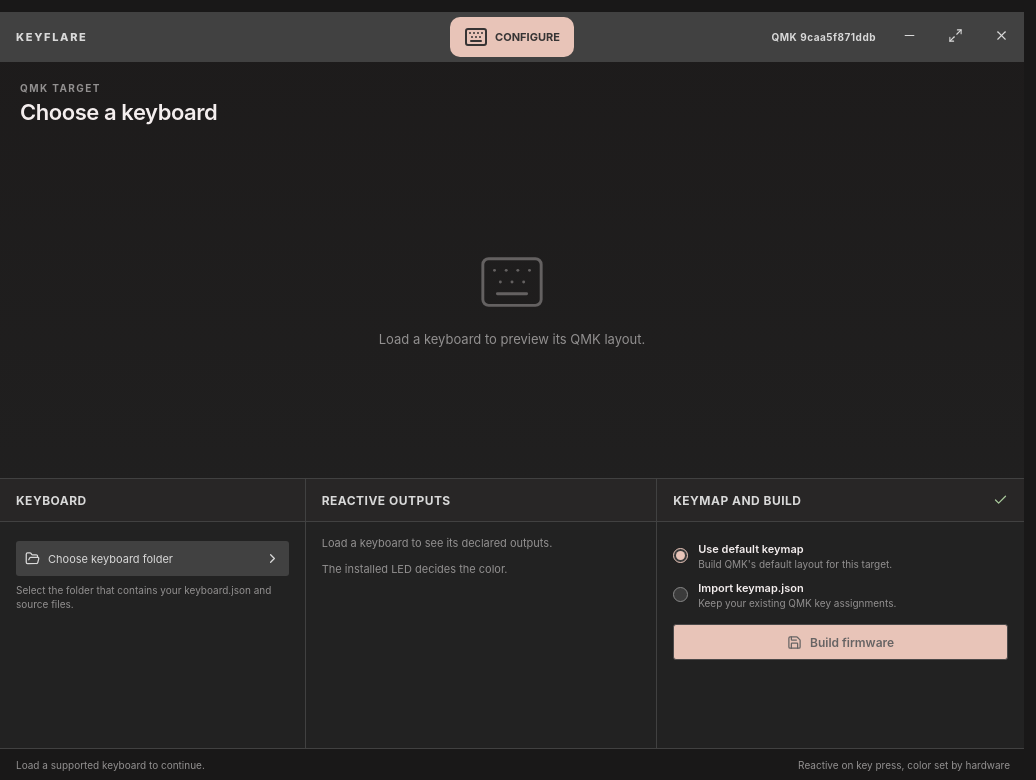
Test case: Keyflare › ghosts stacked layout alternates in the preview
Click the button "Choose keyboard folder" at (152, 558), box [16,541,289,576]
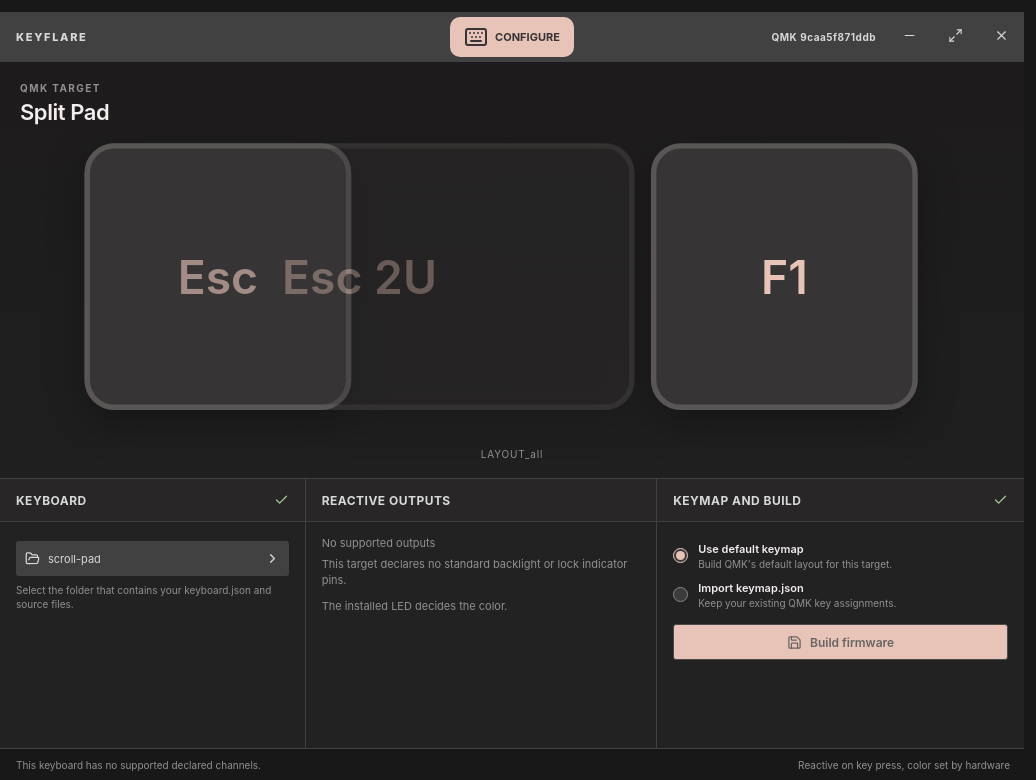
Expected: the heading "Split Pad" is shown, [20,99,109,125]
